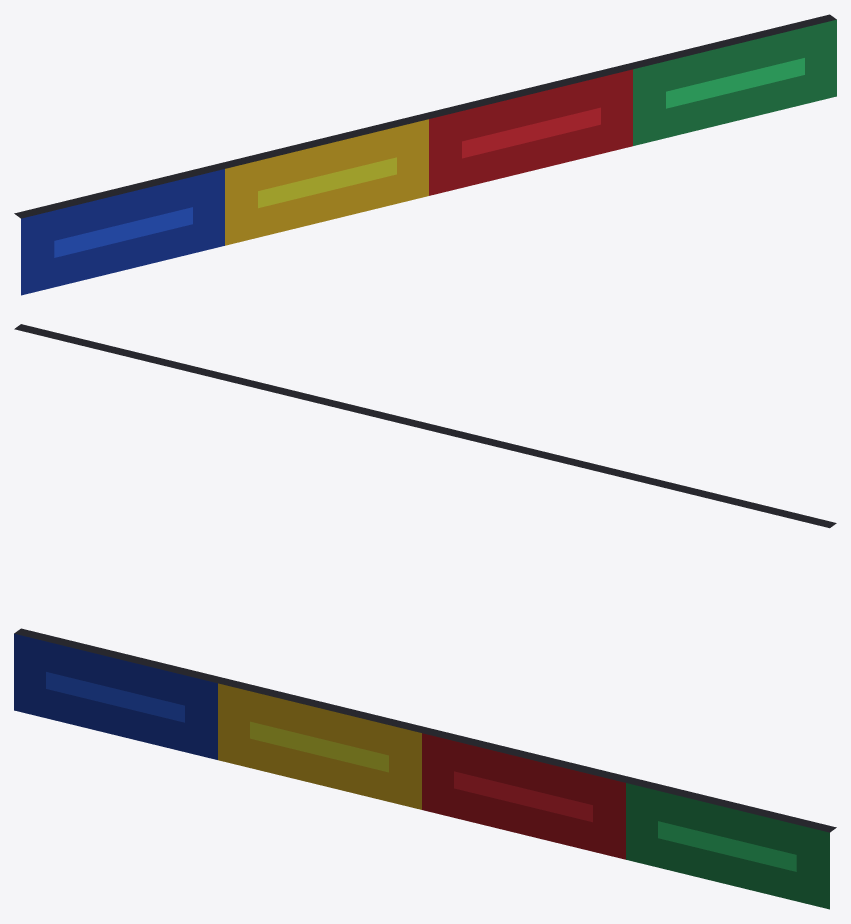
The model's file is boards_1.glb.
3 renders of one model, top to bottom at view 1: azimuth 30°, elevation 25°; view 2: azimuth 150°, elevation 25°; view 3: azimuth 330°, elevation 25°, orthographic.
Parts seen in each view (by area): view 1: boards_1; view 2: boards_1; view 3: boards_1.
Boxes of the visible parts, <box> form: boards_1: <box>14,14,836,295</box>; boards_1: <box>14,324,836,528</box>; boards_1: <box>14,628,836,909</box>.
Size of the model in its own units: 10 by 0.9 by 0.16.
